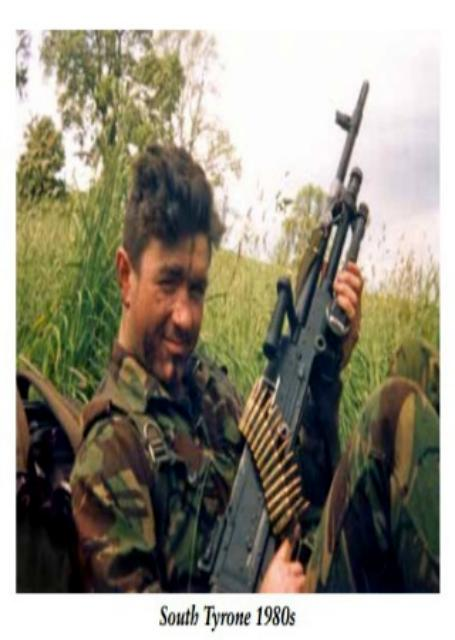rifle: (195, 70, 375, 592)
